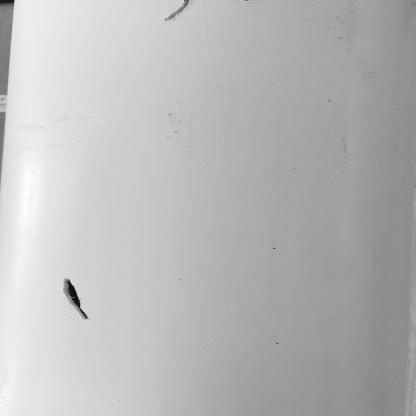fengxi: (166, 2, 193, 22)
kongdong: (57, 273, 90, 320)
